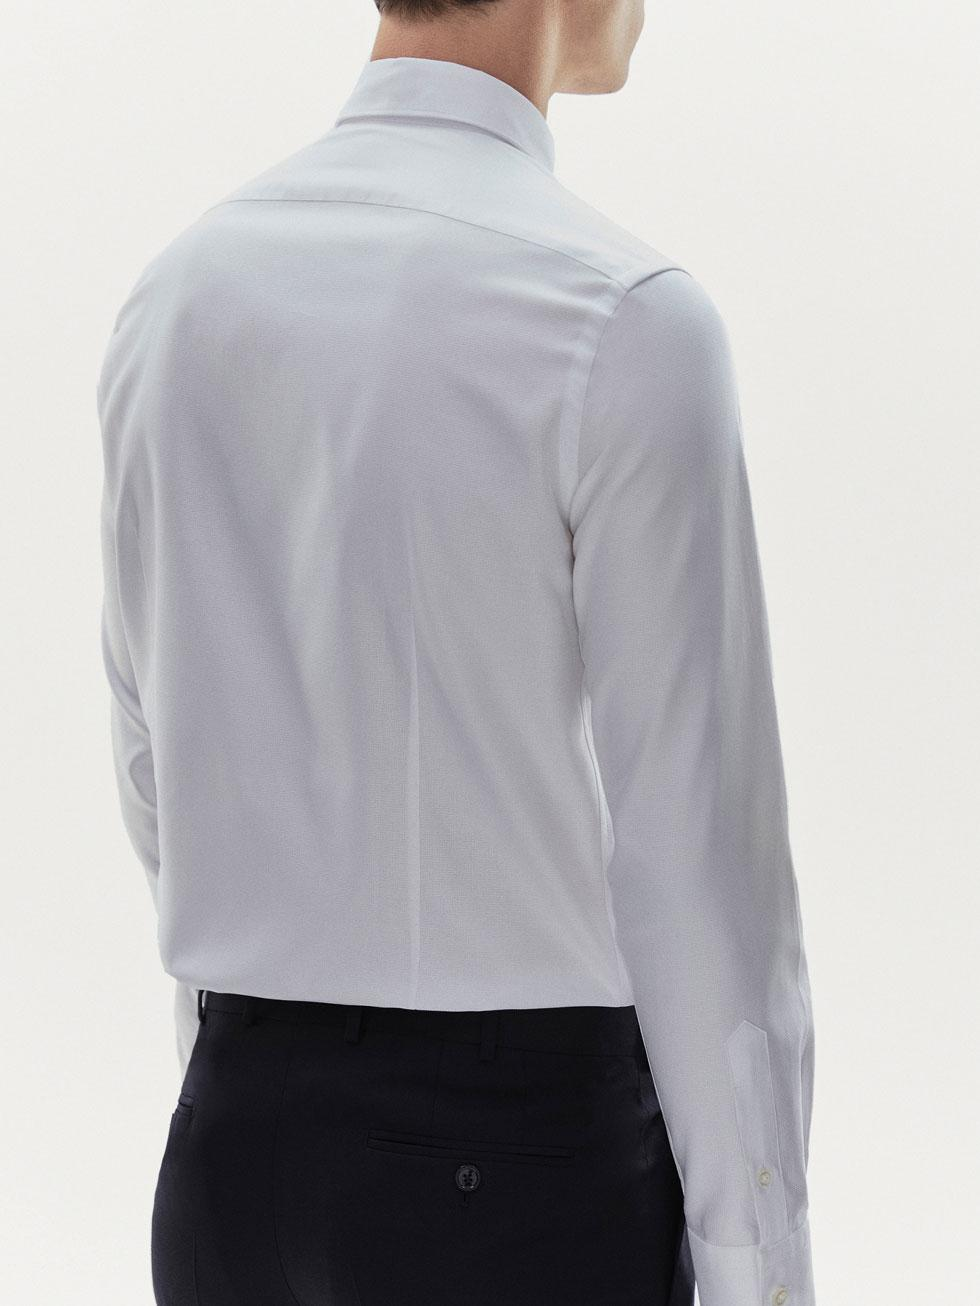teeshirt: (31, 55, 825, 1306)
